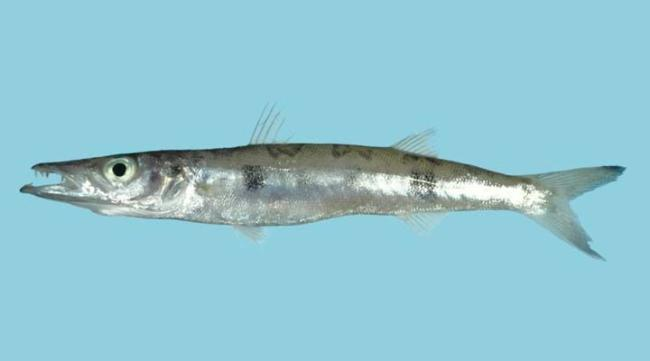fish: (20, 101, 628, 261)
